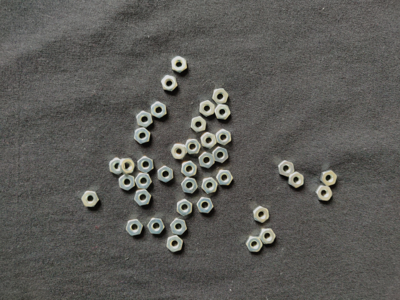nut: (134, 190, 152, 207), (82, 191, 99, 208), (126, 219, 143, 236), (148, 218, 165, 235), (181, 177, 198, 194), (181, 161, 198, 178), (212, 147, 229, 164), (278, 161, 295, 178), (138, 156, 154, 174), (171, 56, 187, 74), (216, 170, 234, 186), (119, 174, 135, 191), (119, 158, 135, 175), (137, 111, 153, 128), (151, 102, 167, 119), (135, 173, 152, 189), (162, 75, 178, 92), (158, 166, 174, 183), (171, 144, 188, 160), (167, 236, 183, 253), (171, 219, 187, 236), (191, 116, 207, 133), (197, 198, 214, 214), (202, 178, 218, 195), (199, 152, 215, 169), (216, 129, 232, 146), (215, 104, 232, 120), (213, 88, 229, 105), (259, 229, 276, 245), (254, 207, 270, 224), (316, 186, 333, 202), (321, 170, 338, 186), (177, 199, 192, 217), (135, 128, 151, 144), (185, 139, 201, 155), (201, 133, 217, 149), (200, 100, 215, 117), (246, 237, 263, 252), (289, 172, 304, 189), (109, 158, 122, 175)
